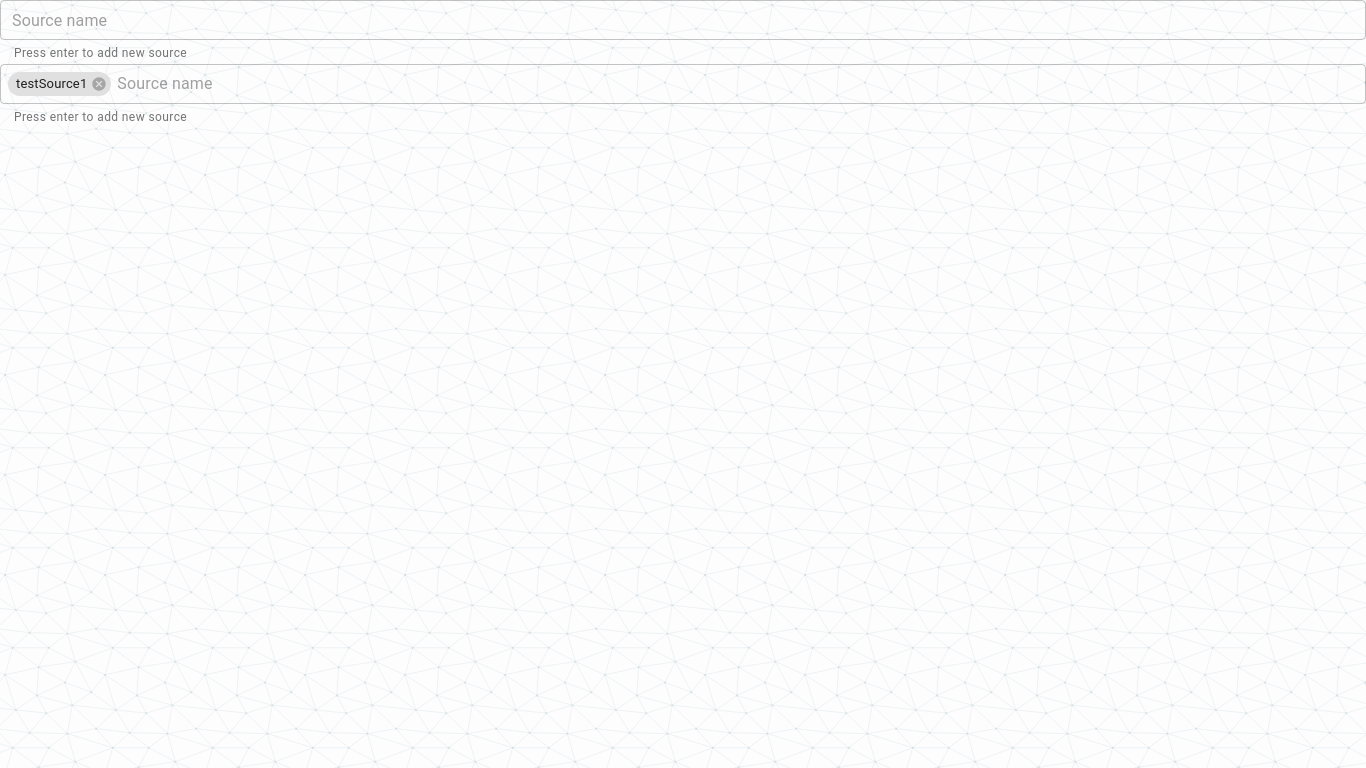
Scenario: Sources Selector functional test suite › click on remove-icon correctly deselects the option
The image size is (1366, 768).
Expected: the 2nd search field with placeholder "Source name" is shown, [113,70,1360,98]
Expected: the button reads "testSource1", [8,72,111,96]
Click the icon at (99, 84), box [91,76,107,92]
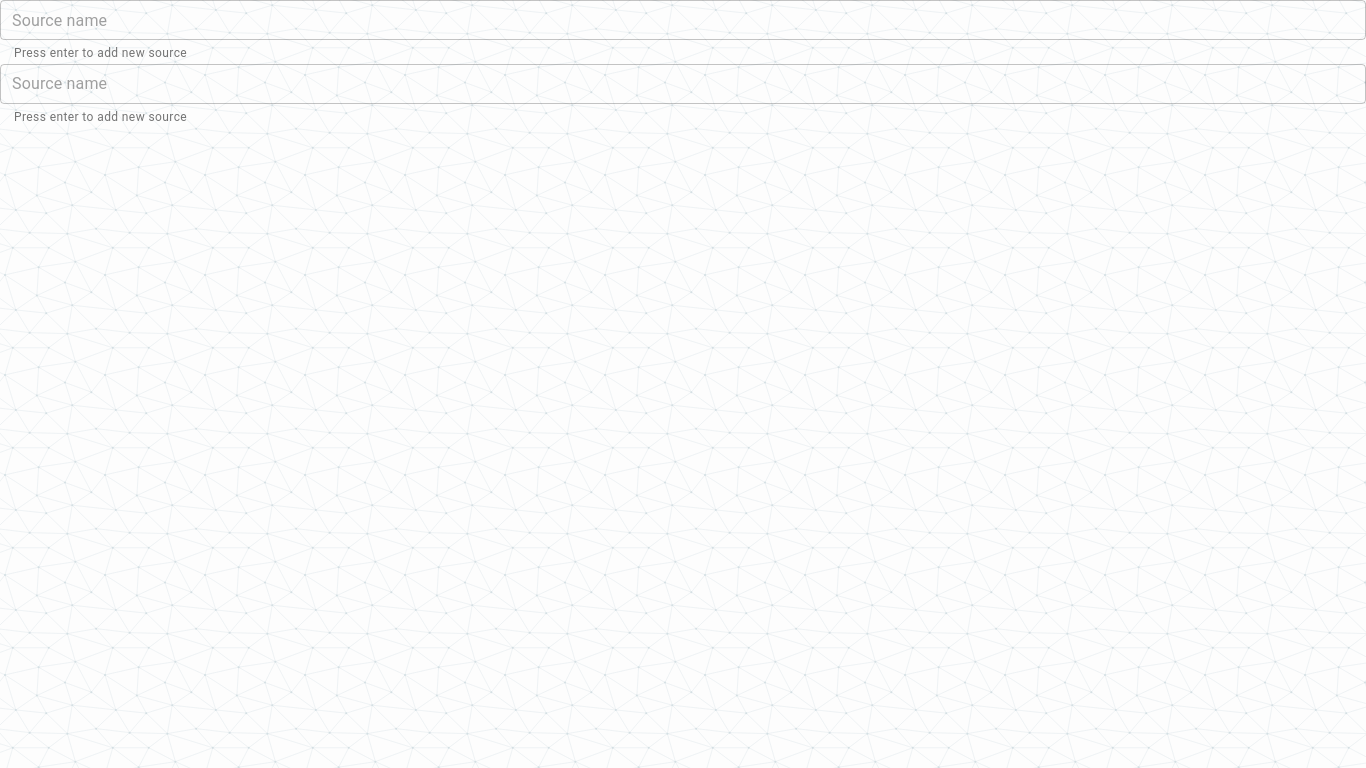
Result: the button "testSource1" is gone
